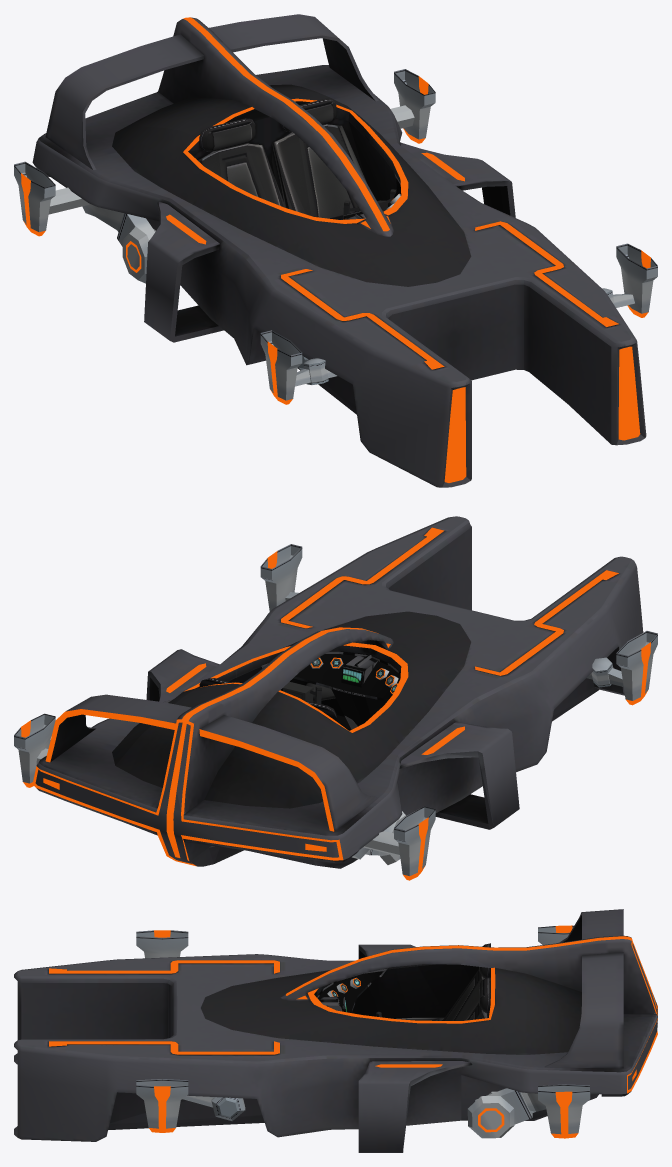
The model's file is runner04chassis.glb.
The picture shows the model from 3 angles, top to bottom: view 1: azimuth 30°, elevation 25°; view 2: azimuth 150°, elevation 25°; view 3: azimuth 270°, elevation 25°; orthographic projection. The views are drawn at different scales.
Parts seen in each view (by area): view 1: Body_baseMetal_MAT_0, Body_Glow_0, Body_Seats_0, RearSusp.r_Chrome_0, FrontSusp.r_Chrome_0, FrontSusp.l_Chrome_0, RearSusp.l_Chrome_0; view 2: Body_baseMetal_MAT_0, Body_Glow_0, RearSusp.r_Chrome_0, FrontSusp.r_Chrome_0, Body_Black_0, Body_Dark Gray_0, FrontSusp.l_Chrome_0, RearSusp.l_Chrome_0, Body_Seats_0; view 3: Body_baseMetal_MAT_0, Body_Glow_0, RearSusp.l_Chrome_0, FrontSusp.l_Chrome_0, Body_Seats_0, FrontSusp.r_Chrome_0, RearSusp.l_Glow_0, Body_Black_0, FrontSusp.l_Glow_0, Body_Dark Gray_0, RearSusp.r_Chrome_0.
Boxes of the visible parts, x1=… form: Body_baseMetal_MAT_0: x1=32, y1=14, x2=646, y2=487; Body_Glow_0: x1=166, y1=17, x2=640, y2=482; Body_Seats_0: x1=197, y1=98, x2=396, y2=219; RearSusp.r_Chrome_0: x1=14, y1=161, x2=155, y2=283; FrontSusp.r_Chrome_0: x1=260, y1=330, x2=336, y2=400; FrontSusp.l_Chrome_0: x1=602, y1=243, x2=657, y2=313; RearSusp.l_Chrome_0: x1=390, y1=69, x2=435, y2=139; Body_baseMetal_MAT_0: x1=35, y1=516, x2=643, y2=868; Body_Glow_0: x1=32, y1=527, x2=618, y2=866; RearSusp.r_Chrome_0: x1=352, y1=806, x2=435, y2=876; FrontSusp.r_Chrome_0: x1=586, y1=631, x2=657, y2=700; Body_Black_0: x1=295, y1=654, x2=400, y2=730; Body_Dark Gray_0: x1=261, y1=651, x2=400, y2=729; FrontSusp.l_Chrome_0: x1=260, y1=544, x2=302, y2=611; RearSusp.l_Chrome_0: x1=14, y1=713, x2=55, y2=783; Body_Seats_0: x1=199, y1=678, x2=336, y2=721; Body_baseMetal_MAT_0: x1=14, y1=909, x2=657, y2=1152; Body_Glow_0: x1=49, y1=936, x2=657, y2=1093; RearSusp.l_Chrome_0: x1=467, y1=1084, x2=590, y2=1138; FrontSusp.l_Chrome_0: x1=136, y1=1079, x2=245, y2=1128; Body_Seats_0: x1=376, y1=943, x2=490, y2=1020; FrontSusp.r_Chrome_0: x1=136, y1=930, x2=188, y2=958; RearSusp.l_Glow_0: x1=478, y1=1091, x2=578, y2=1138; Body_Black_0: x1=319, y1=971, x2=383, y2=1012; FrontSusp.l_Glow_0: x1=149, y1=1086, x2=175, y2=1132; Body_Dark Gray_0: x1=317, y1=968, x2=387, y2=1011; RearSusp.r_Chrome_0: x1=538, y1=925, x2=573, y2=944.
Bounding box in the file's own units: 2.98 × 1.33 × 4.89.
7 materials, 5 textured.
